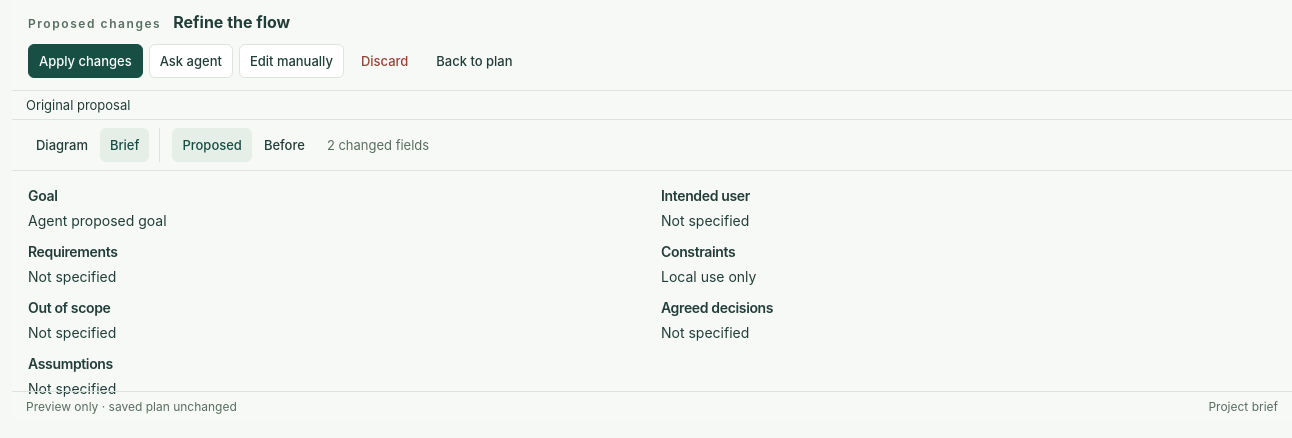
Test case: reviewable project brief proposals › starts a brief-only proposal in explicit comparison and keeps its diagram readonly
Expected: the text with test id "review-brief-count" reads "2 changed fields", [327,137,429,153]
Expected: the text "Agent proposed goal" is shown, [28,212,167,229]
Click the button "Before". click: (284, 145)
box: [254,128,315,162]
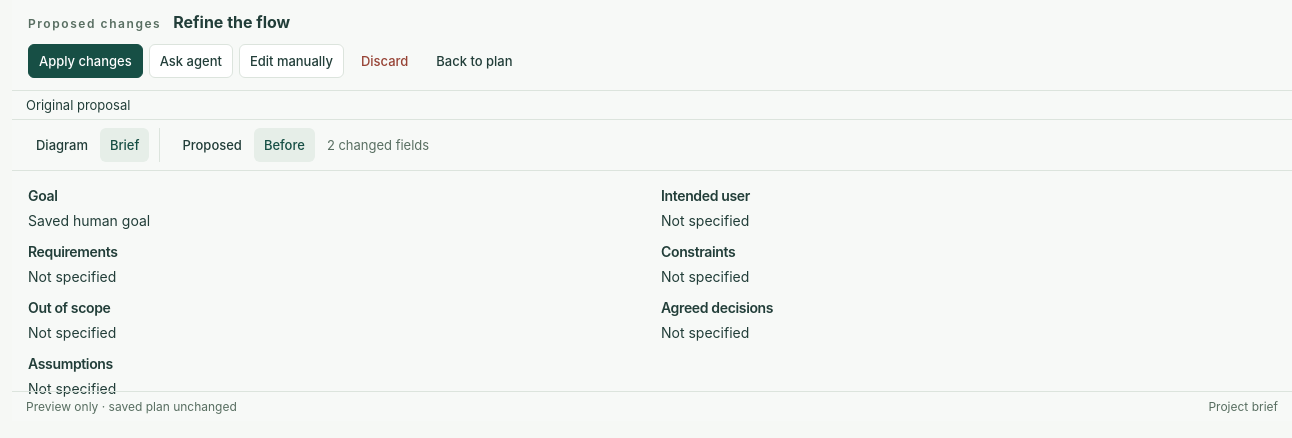
Expected: the text "Saved human goal" is shown, [28,212,150,229]
Click the button "Diagram". click: (62, 145)
box: [26,128,98,162]
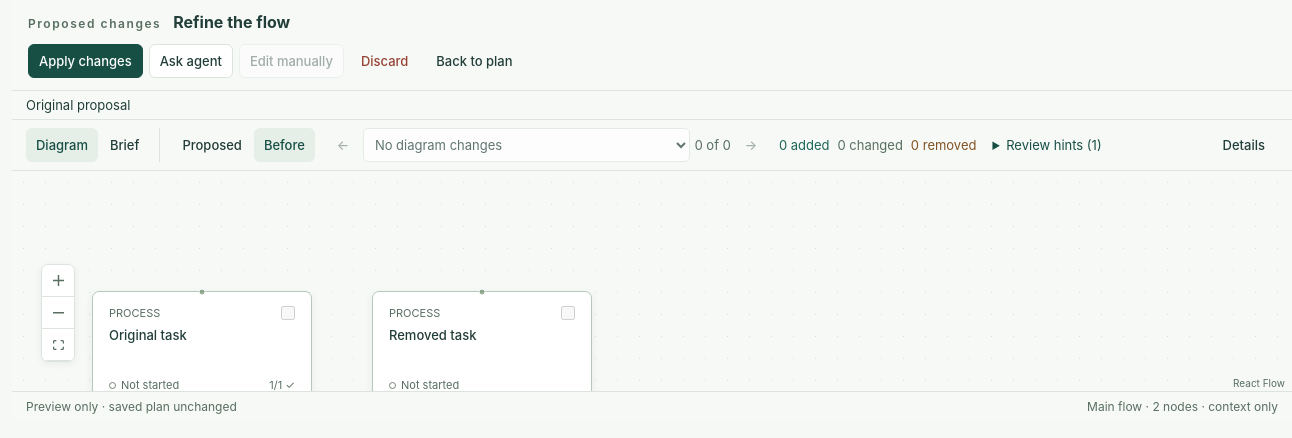
Expected: the button "Edit manually" is disabled, [239,44,344,78]
